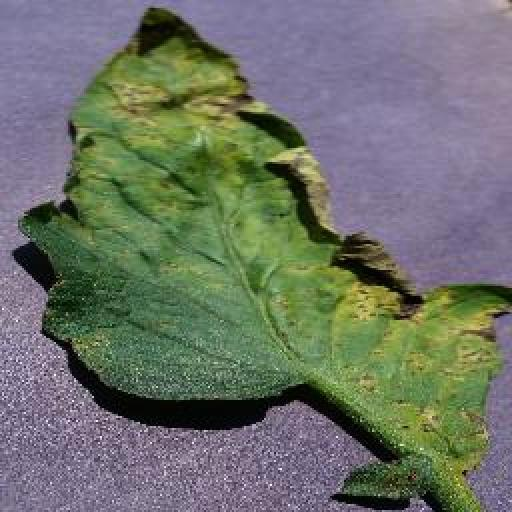disease_tomato: (20, 6, 510, 512)
